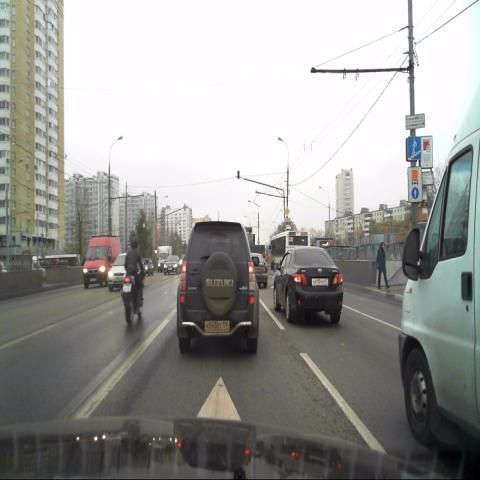4_8_2: (408, 167, 422, 201)
